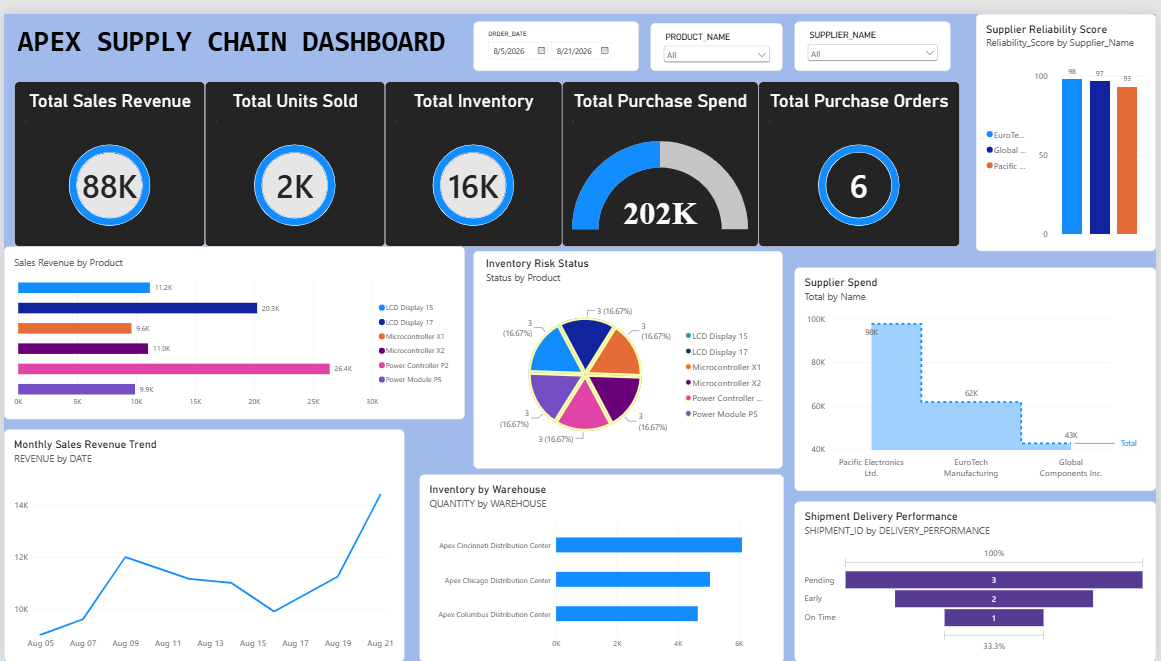

What the dashboard file says about the page in this screenshot:
{"tool":"powerbi","page":{"name":"Page 1","canvas":[1920,1080],"ordinal":0},"visuals":[{"type":"donutChart","title":"Total Sales Revenue","fields":{"Y":["Sum(sales_analysis.SALES_REVENUE)"]},"box":[18.2,113.6,315.7,274.8],"z":0},{"type":"donutChart","title":"Total Units Sold","fields":{"Y":["Sum(sales_analysis.QUANTITY_SOLD)"]},"box":[335,112.5,300,275],"z":1000},{"type":"donutChart","title":"Total Inventory","fields":{"Y":["Sum(inventory_risk.QUANTITY_ON_HAND)"]},"box":[635,112.5,295,275],"z":2000},{"type":"gauge","title":"Total Purchase Spend","fields":{"Y":["Sum(supplier_performance.TOTAL_SPEND)"]},"box":[930,112.5,327.5,275],"z":3000},{"type":"textbox","box":[22.5,17.5,727.5,70],"z":4000},{"type":"clusteredBarChart","fields":{"Series":["sales_analysis.PRODUCT_NAME"],"Y":["Sum(sales_analysis.SALES_REVENUE)"]},"box":[0,388,768,288],"z":5000},{"type":"clusteredColumnChart","title":"Supplier Reliability Score","fields":{"Series":["supplier_performance.SUPPLIER_NAME"],"Y":["Sum(supplier_performance.RELIABILITY_SCORE)"]},"box":[1620,0,300,395],"z":6000},{"type":"funnel","title":"Shipment Delivery Performance","fields":{"Category":["shipment_performance.DELIVERY_PERFORMANCE"],"Y":["CountNonNull(shipment_performance.SHIPMENT_ID)"]},"box":[1317.5,812.5,602.5,267.5],"z":7000},{"type":"pieChart","title":"Inventory Risk Status","fields":{"Category":["inventory_risk.PRODUCT_NAME"],"Y":["CountNonNull(inventory_risk.INVENTORY_STATUS)"]},"box":[782.5,395,515,362.5],"z":8000},{"type":"slicer","fields":{"Values":["dim_product.PRODUCT_NAME"]},"box":[1097.7,7,244.2,104.7],"z":9000},{"type":"slicer","fields":{"Values":["supplier_performance.SUPPLIER_NAME"]},"box":[1365.1,7,253.5,104.7],"z":10000},{"type":"donutChart","title":"Total Purchase Orders","fields":{"Y":["Sum(supplier_performance.TOTAL_PURCHASE_ORDERS)"]},"box":[1257.5,112.5,335,275],"z":11000},{"type":"slicer","fields":{"Values":["sales_analysis.ORDER_DATE"]},"box":[767.4,7,297.7,104.7],"z":12000},{"type":"lineChart","title":"Monthly Sales Revenue Trend","fields":{"Category":["sales_analysis.ORDER_DATE"],"Y":["Sum(sales_analysis.SALES_REVENUE)"]},"box":[0,692.5,667.5,387.5],"z":13000},{"type":"clusteredBarChart","title":"Inventory by Warehouse","fields":{"Category":["inventory_risk.WAREHOUSE_NAME"],"Y":["Sum(inventory_risk.QUANTITY_ON_HAND)"]},"box":[692.5,767.5,607.5,312.5],"z":14000},{"type":"areaChart","title":"Supplier Spend","fields":{"Category":["supplier_performance.SUPPLIER_NAME"],"Y":["Sum(supplier_performance.TOTAL_SPEND)"]},"box":[1317.5,422.5,602.5,372.5],"z":14001}]}

Visuals, with their boxes in screenshot pixels (x1, y1, x2, y2), scaled from the page's 1920x1080 canvas onto the 1161x661 screenshot:
"Total Sales Revenue" donutChart: left=11, top=70, right=202, bottom=238
"Total Units Sold" donutChart: left=203, top=69, right=384, bottom=237
"Total Inventory" donutChart: left=384, top=69, right=562, bottom=237
"Total Purchase Spend" gauge: left=562, top=69, right=760, bottom=237
textbox: left=14, top=11, right=454, bottom=54
clusteredBarChart - sales_analysis.PRODUCT_NAME x Sum(sales_analysis.SALES_REVENUE): left=0, top=237, right=464, bottom=414
"Supplier Reliability Score" clusteredColumnChart: left=980, top=0, right=1160, bottom=242
"Shipment Delivery Performance" funnel: left=797, top=497, right=1160, bottom=660
"Inventory Risk Status" pieChart: left=473, top=242, right=785, bottom=464
slicer - dim_product.PRODUCT_NAME: left=664, top=4, right=811, bottom=68
slicer - supplier_performance.SUPPLIER_NAME: left=825, top=4, right=979, bottom=68
"Total Purchase Orders" donutChart: left=760, top=69, right=963, bottom=237
slicer - sales_analysis.ORDER_DATE: left=464, top=4, right=644, bottom=68
"Monthly Sales Revenue Trend" lineChart: left=0, top=424, right=404, bottom=660
"Inventory by Warehouse" clusteredBarChart: left=419, top=470, right=786, bottom=660
"Supplier Spend" areaChart: left=797, top=259, right=1160, bottom=487
